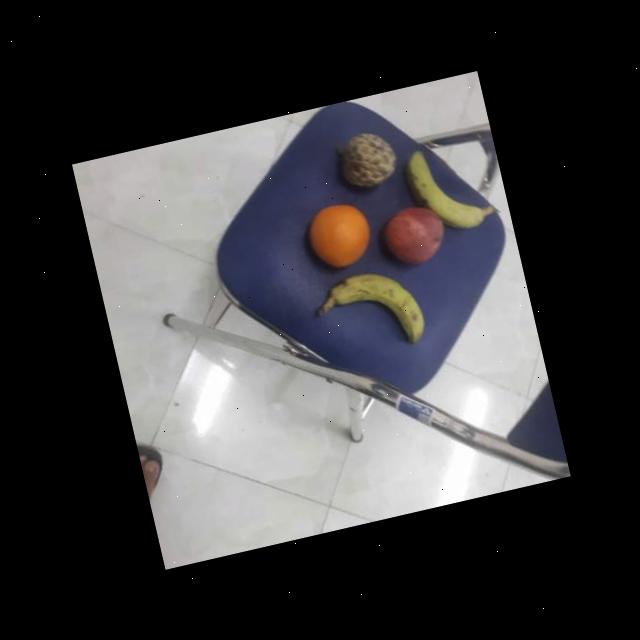Sakya fruit: (330, 125, 400, 193)
apple: (376, 200, 451, 274)
banana: (324, 256, 432, 362), (405, 136, 485, 249)
orange: (298, 193, 381, 276)
